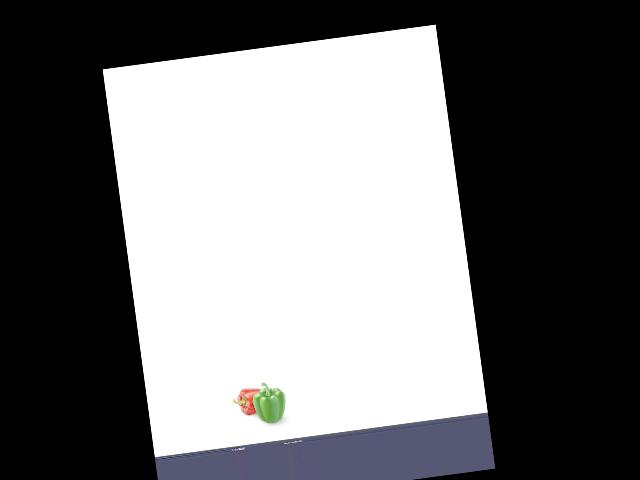bell_pepper: (231, 382, 264, 416)
